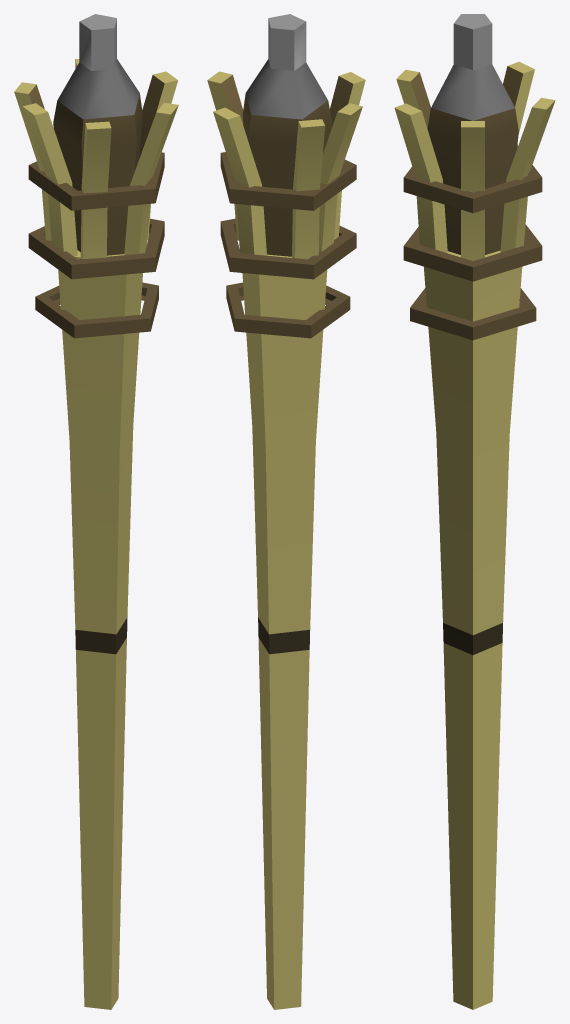
Rendered from obs_sm_tikiTorch.fbx.
3 views of the same model, side by side, from view 1: azimuth 30°, elevation 25°; view 2: azimuth 150°, elevation 25°; view 3: azimuth 270°, elevation 25° (orthographic).
Visible parts, largest first — view 1: pCube100; view 2: pCube100; view 3: pCube100.
Part boxes in pixels (x1=…): pCube100: x1=14, y1=14, x2=178, y2=1009; pCube100: x1=207, y1=14, x2=365, y2=1009; pCube100: x1=394, y1=14, x2=555, y2=1009.
Bounding box in the file's own units: 0.5438 × 3.55 × 0.5291.
